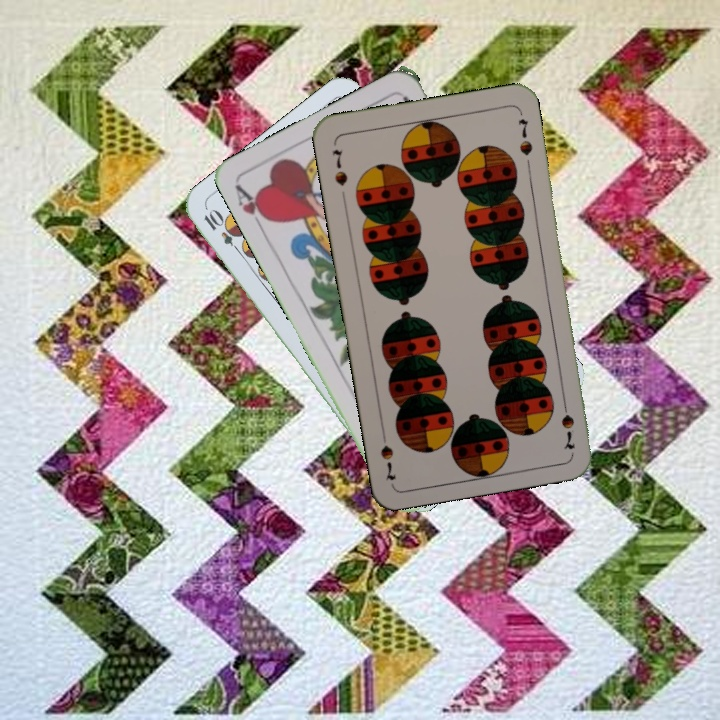E10: (199, 206, 246, 257)
HA: (231, 181, 274, 235)
S7: (557, 395, 578, 452), (328, 145, 350, 189)
